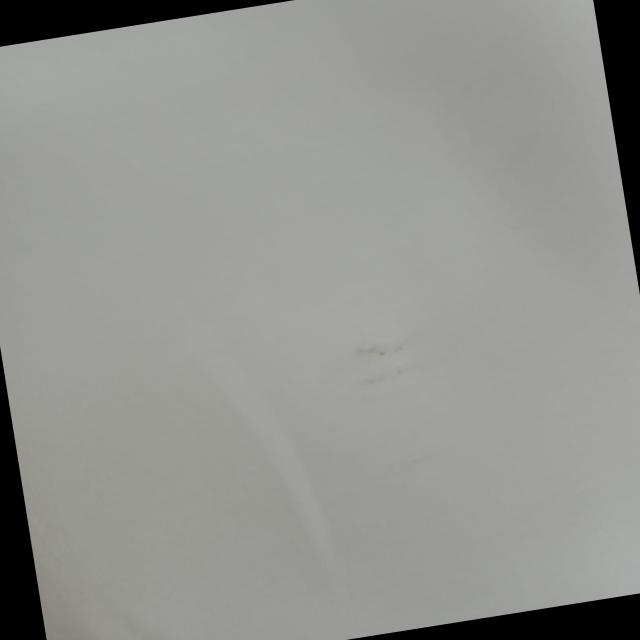stain: (332, 320, 431, 394)
